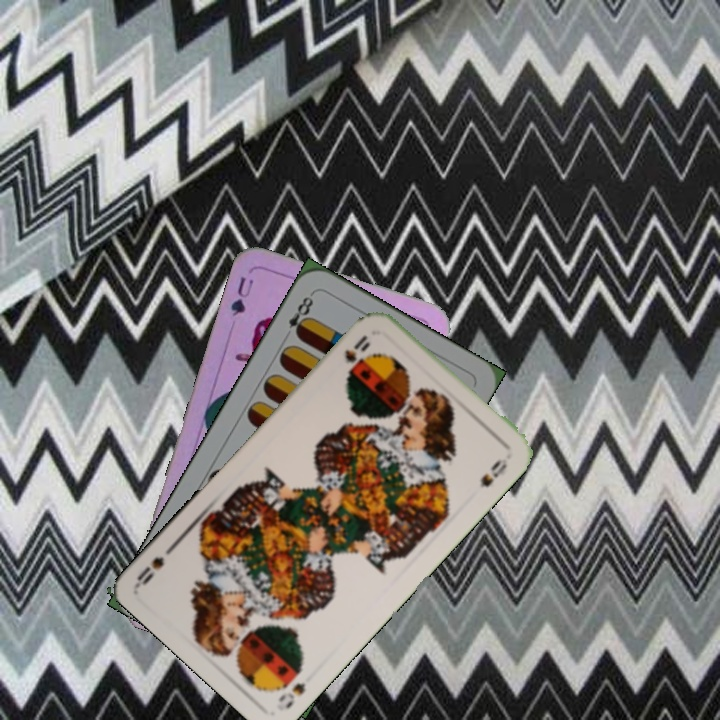E8: (284, 289, 316, 340)
GU: (226, 272, 256, 320)
SO: (341, 331, 373, 376), (274, 678, 308, 712)
